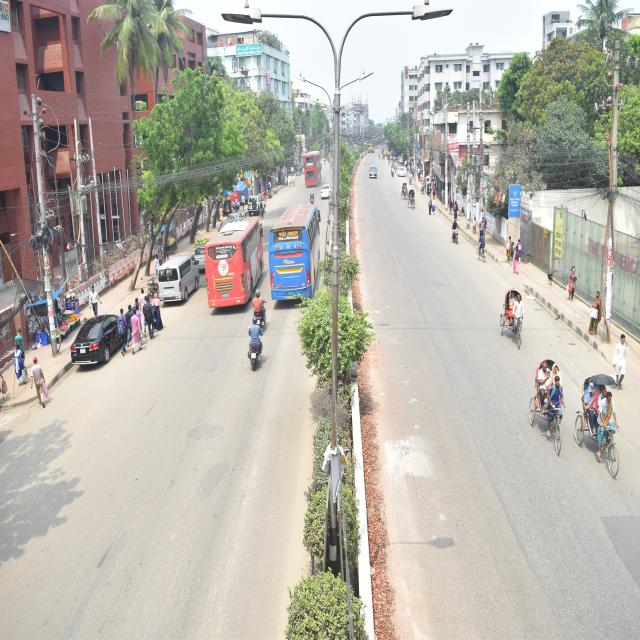bus: (264, 194, 340, 302), (199, 208, 272, 317), (299, 142, 322, 195)
car: (50, 296, 156, 374), (241, 181, 271, 221), (314, 180, 336, 205), (366, 160, 383, 185), (393, 160, 410, 185)
microbus: (150, 255, 207, 310)
motorbike: (239, 313, 267, 377), (248, 285, 269, 333), (304, 179, 318, 212)
